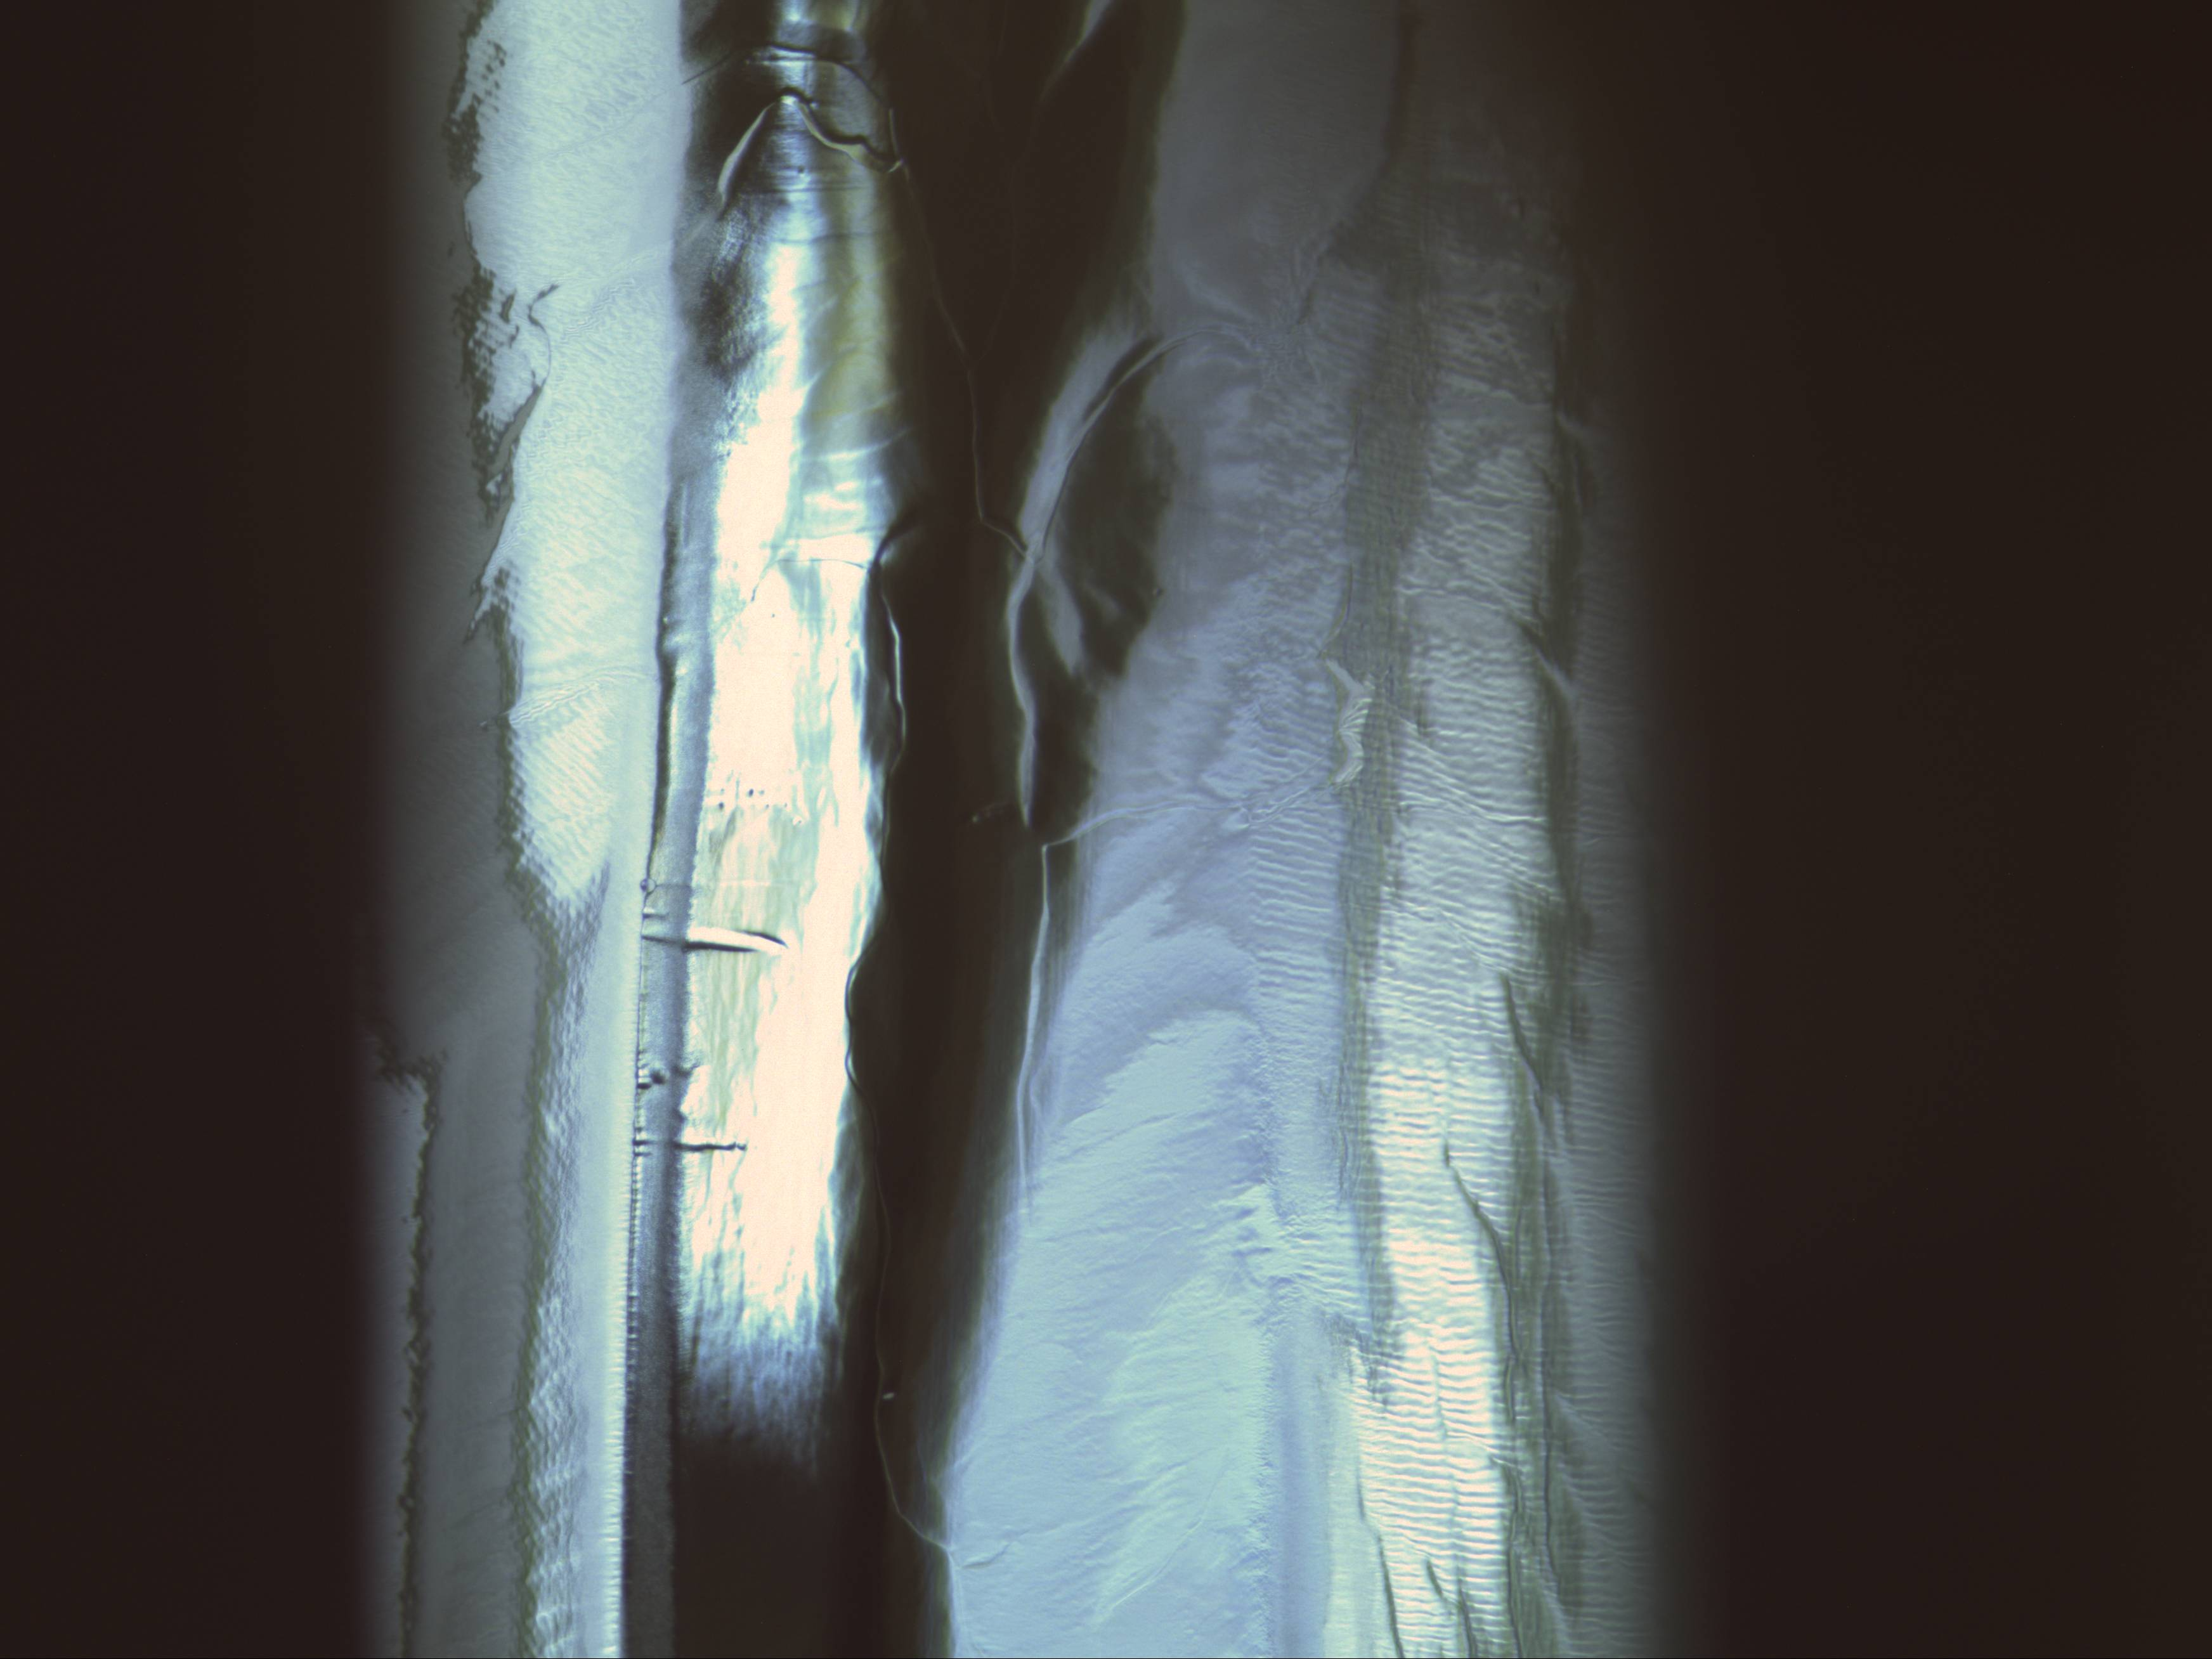defect: (624, 894, 803, 962), (624, 1121, 759, 1171), (620, 1039, 714, 1100)
